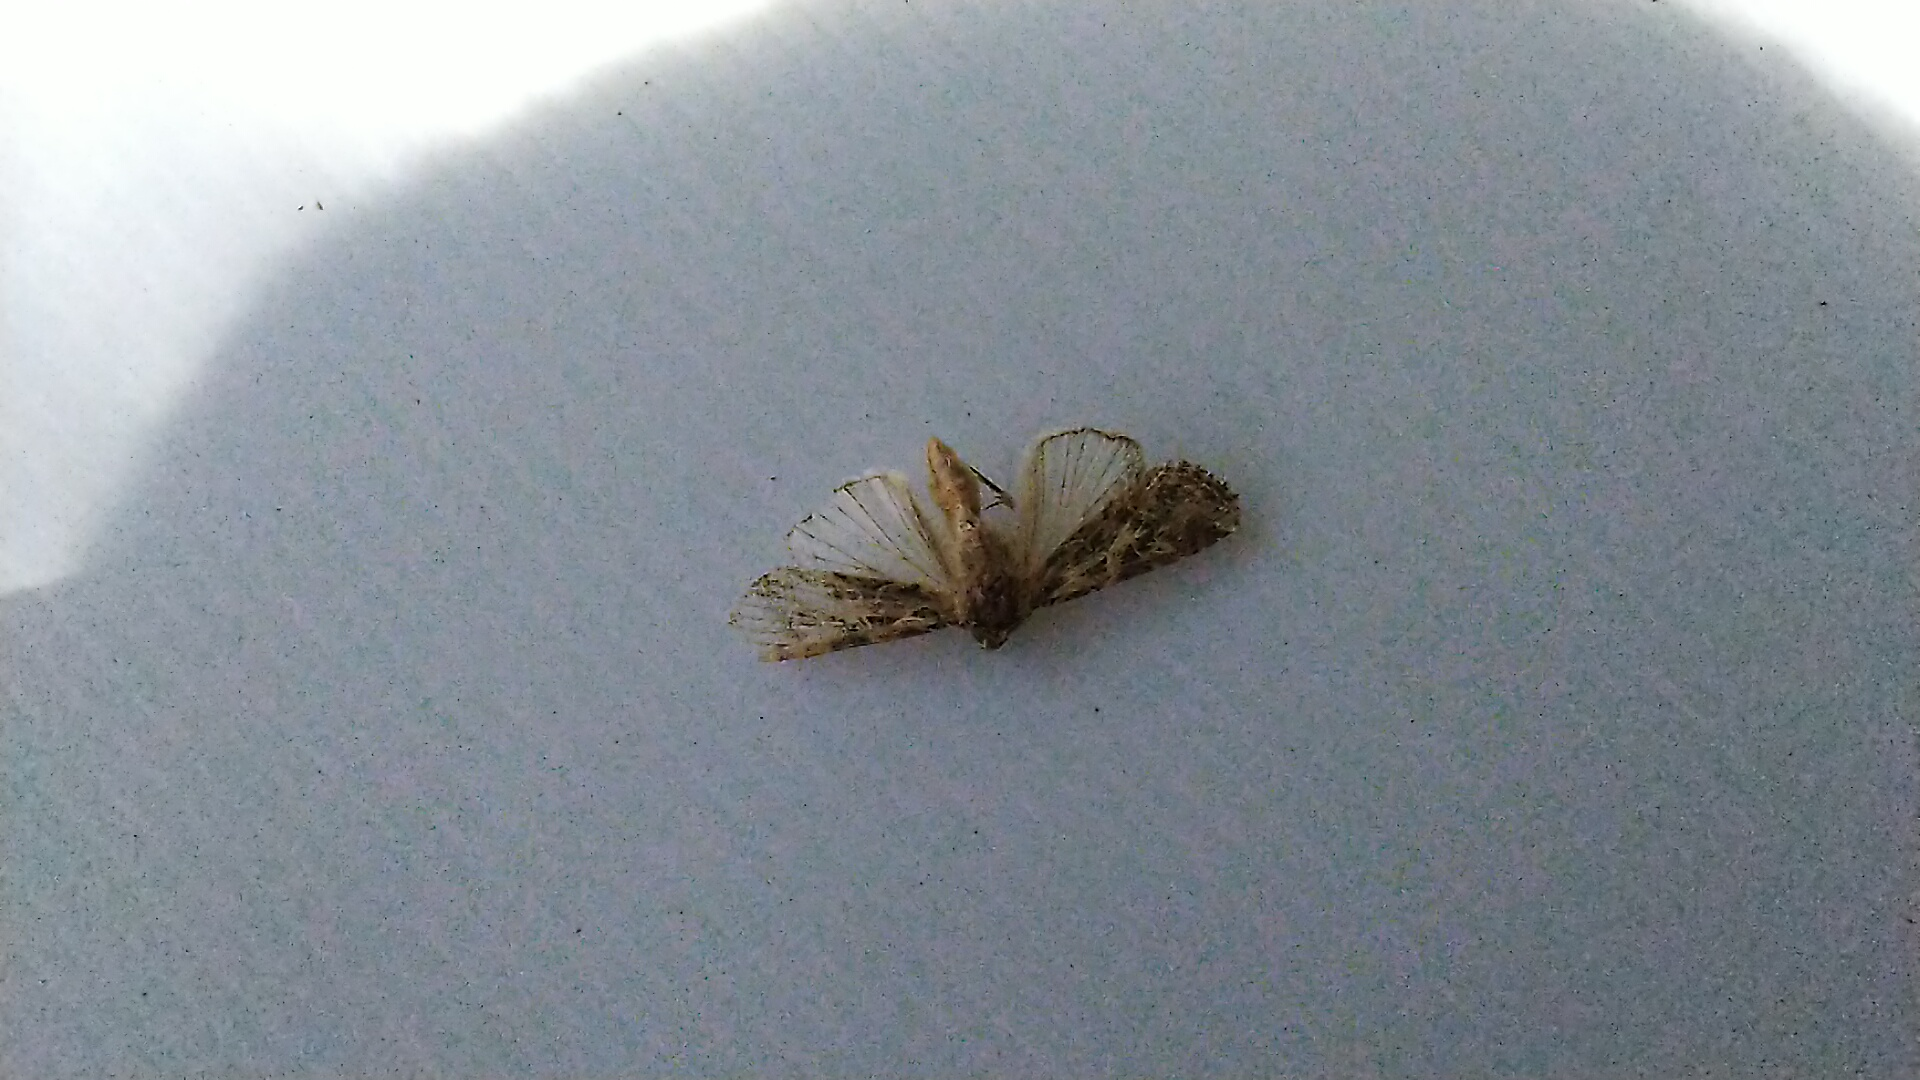INS-B: (674, 372, 1287, 691)
